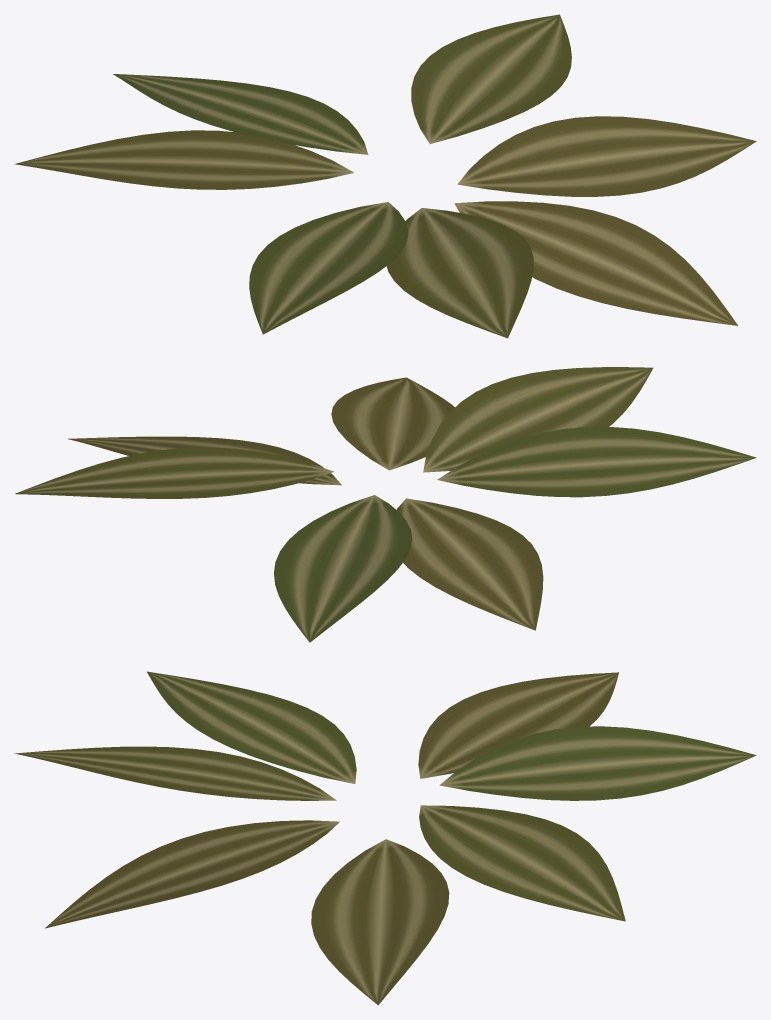
Rendered from bay-leaves.glb.
The picture shows the model from 3 angles, top to bottom: view 1: azimuth 30°, elevation 25°; view 2: azimuth 150°, elevation 25°; view 3: azimuth 270°, elevation 25°; orthographic projection. The views are drawn at different scales.
Parts seen in each view (by area): view 1: leaves; view 2: leaves; view 3: leaves.
Boxes of the visible parts, bbox=[...] form: leaves: bbox=[14, 14, 756, 338]; leaves: bbox=[15, 367, 756, 642]; leaves: bbox=[14, 671, 756, 1005].
Bounding box in the file's own units: 1.57 × 0.1928 × 1.67.
